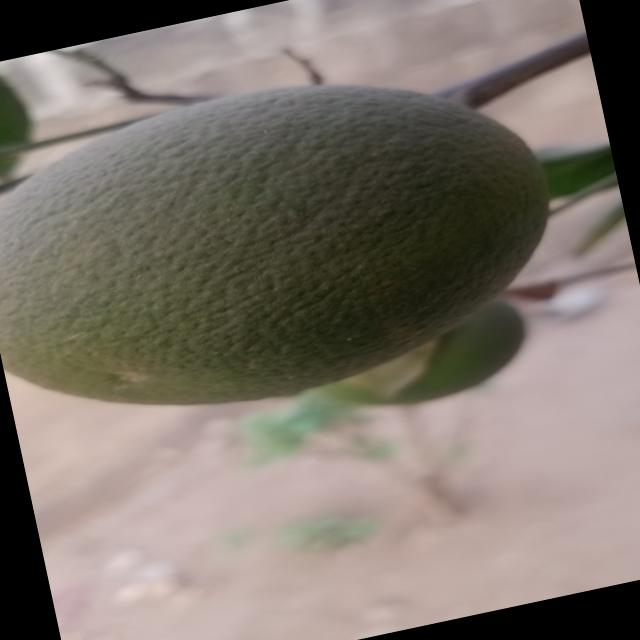Unripe: (0, 27, 577, 454)
